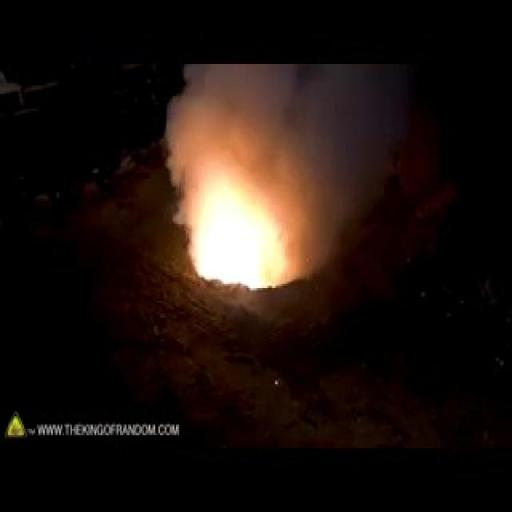smoke: (178, 224, 281, 322)
